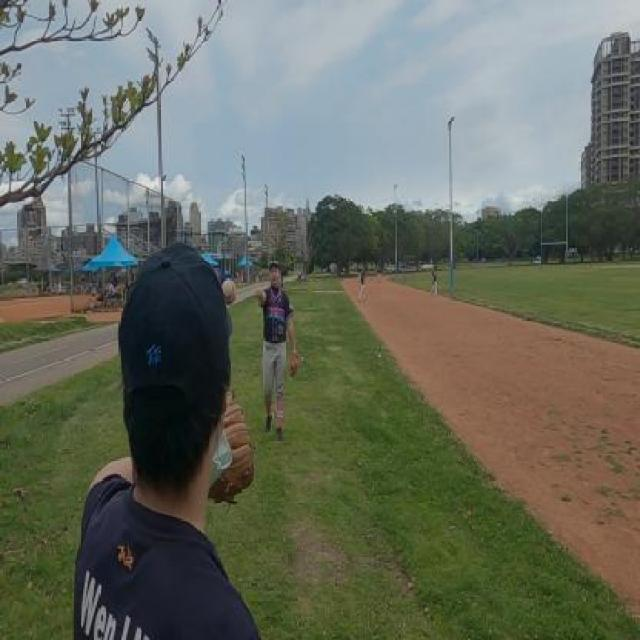baseball: (221, 279, 236, 306)
